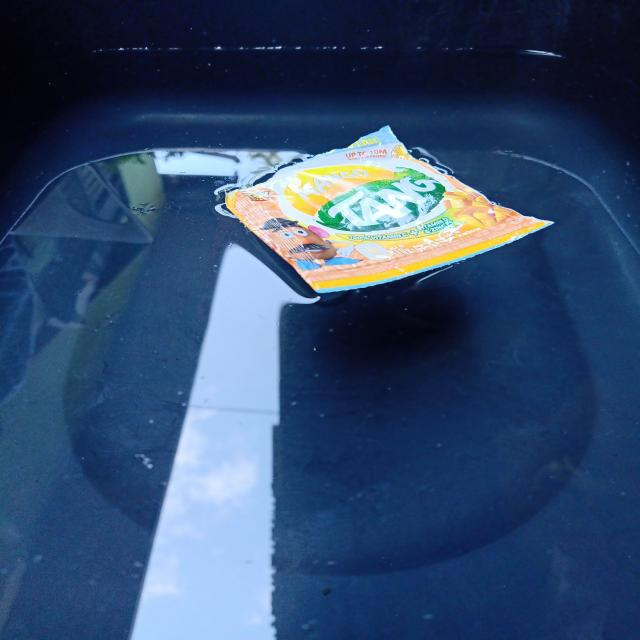Plastic Wrapper: (220, 126, 552, 292)
